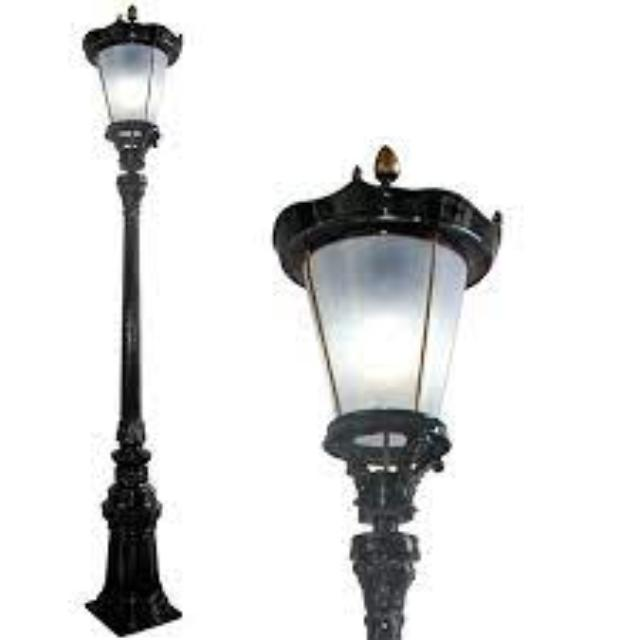Street-Lamp: (79, 1, 189, 636)
